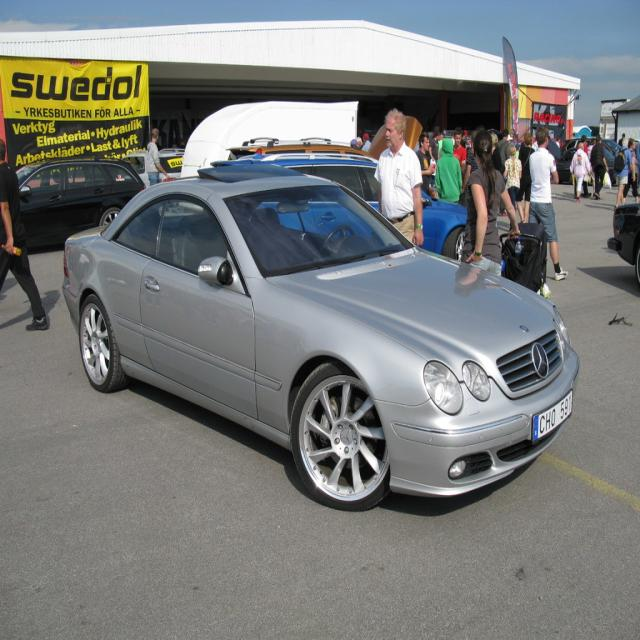car: (67, 159, 567, 513)
